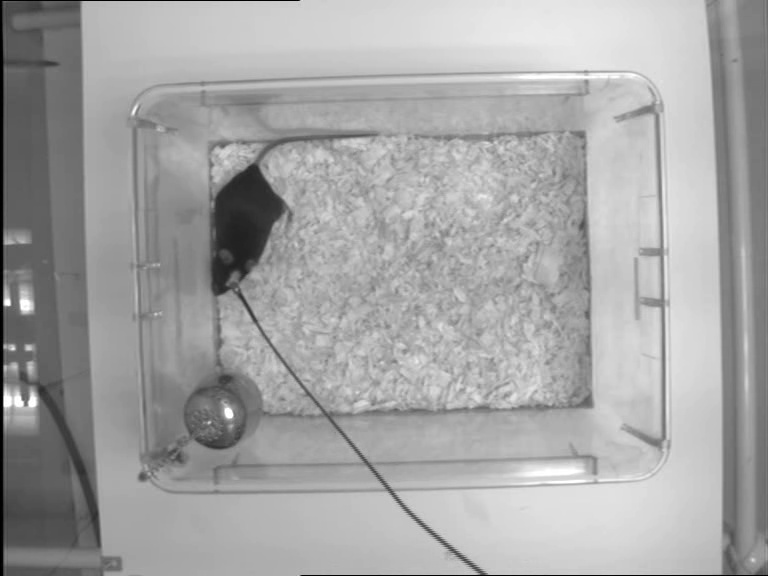mice: (207, 130, 376, 298)
